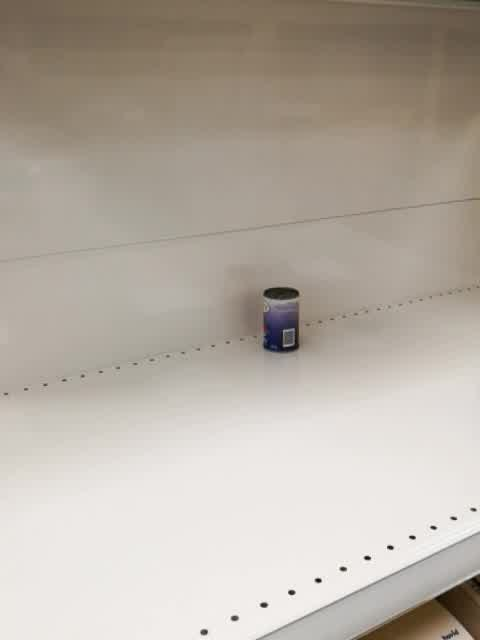sardine: (262, 286, 301, 355)
